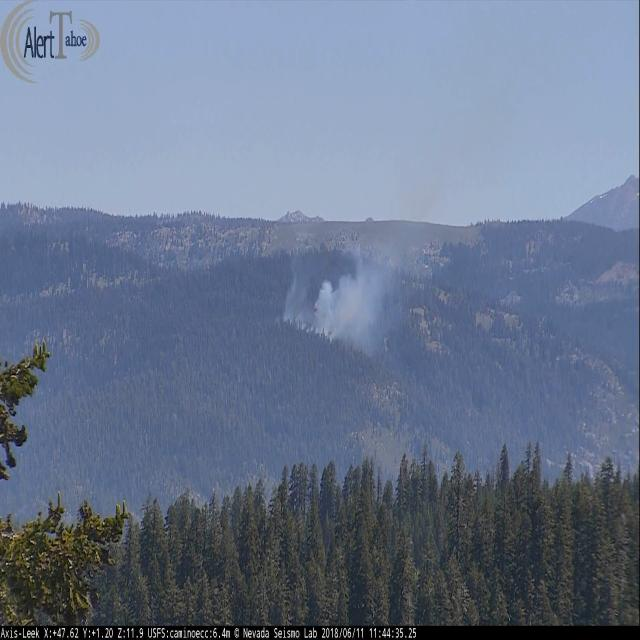smoke: (282, 240, 402, 358)
